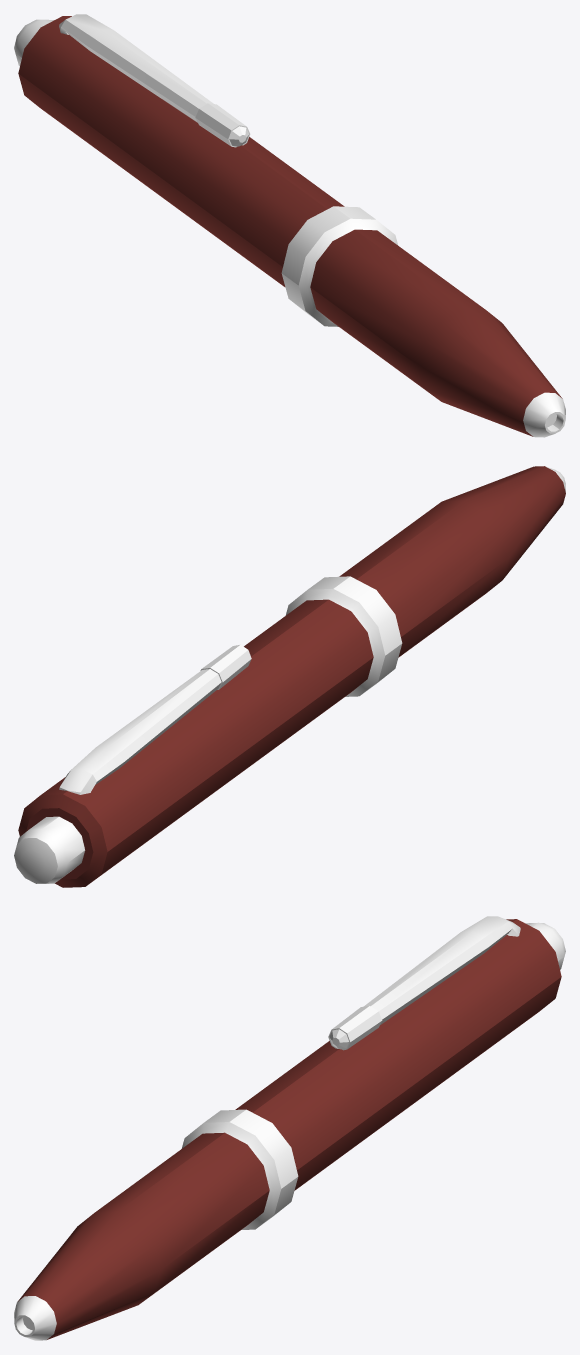
Rendered from penCTF.fbx.
The picture shows the model from 3 angles, top to bottom: view 1: azimuth 30°, elevation 25°; view 2: azimuth 150°, elevation 25°; view 3: azimuth 330°, elevation 25°; orthographic projection.
Parts seen in each view (by area): view 1: Cylinder; view 2: Cylinder; view 3: Cylinder.
Boxes of the visible parts, <box> form: Cylinder: <box>14,14,565,437</box>; Cylinder: <box>14,466,565,887</box>; Cylinder: <box>14,916,565,1340</box>.
Bounding box in the file's own units: 0.9931 × 1.11 × 8.65.
